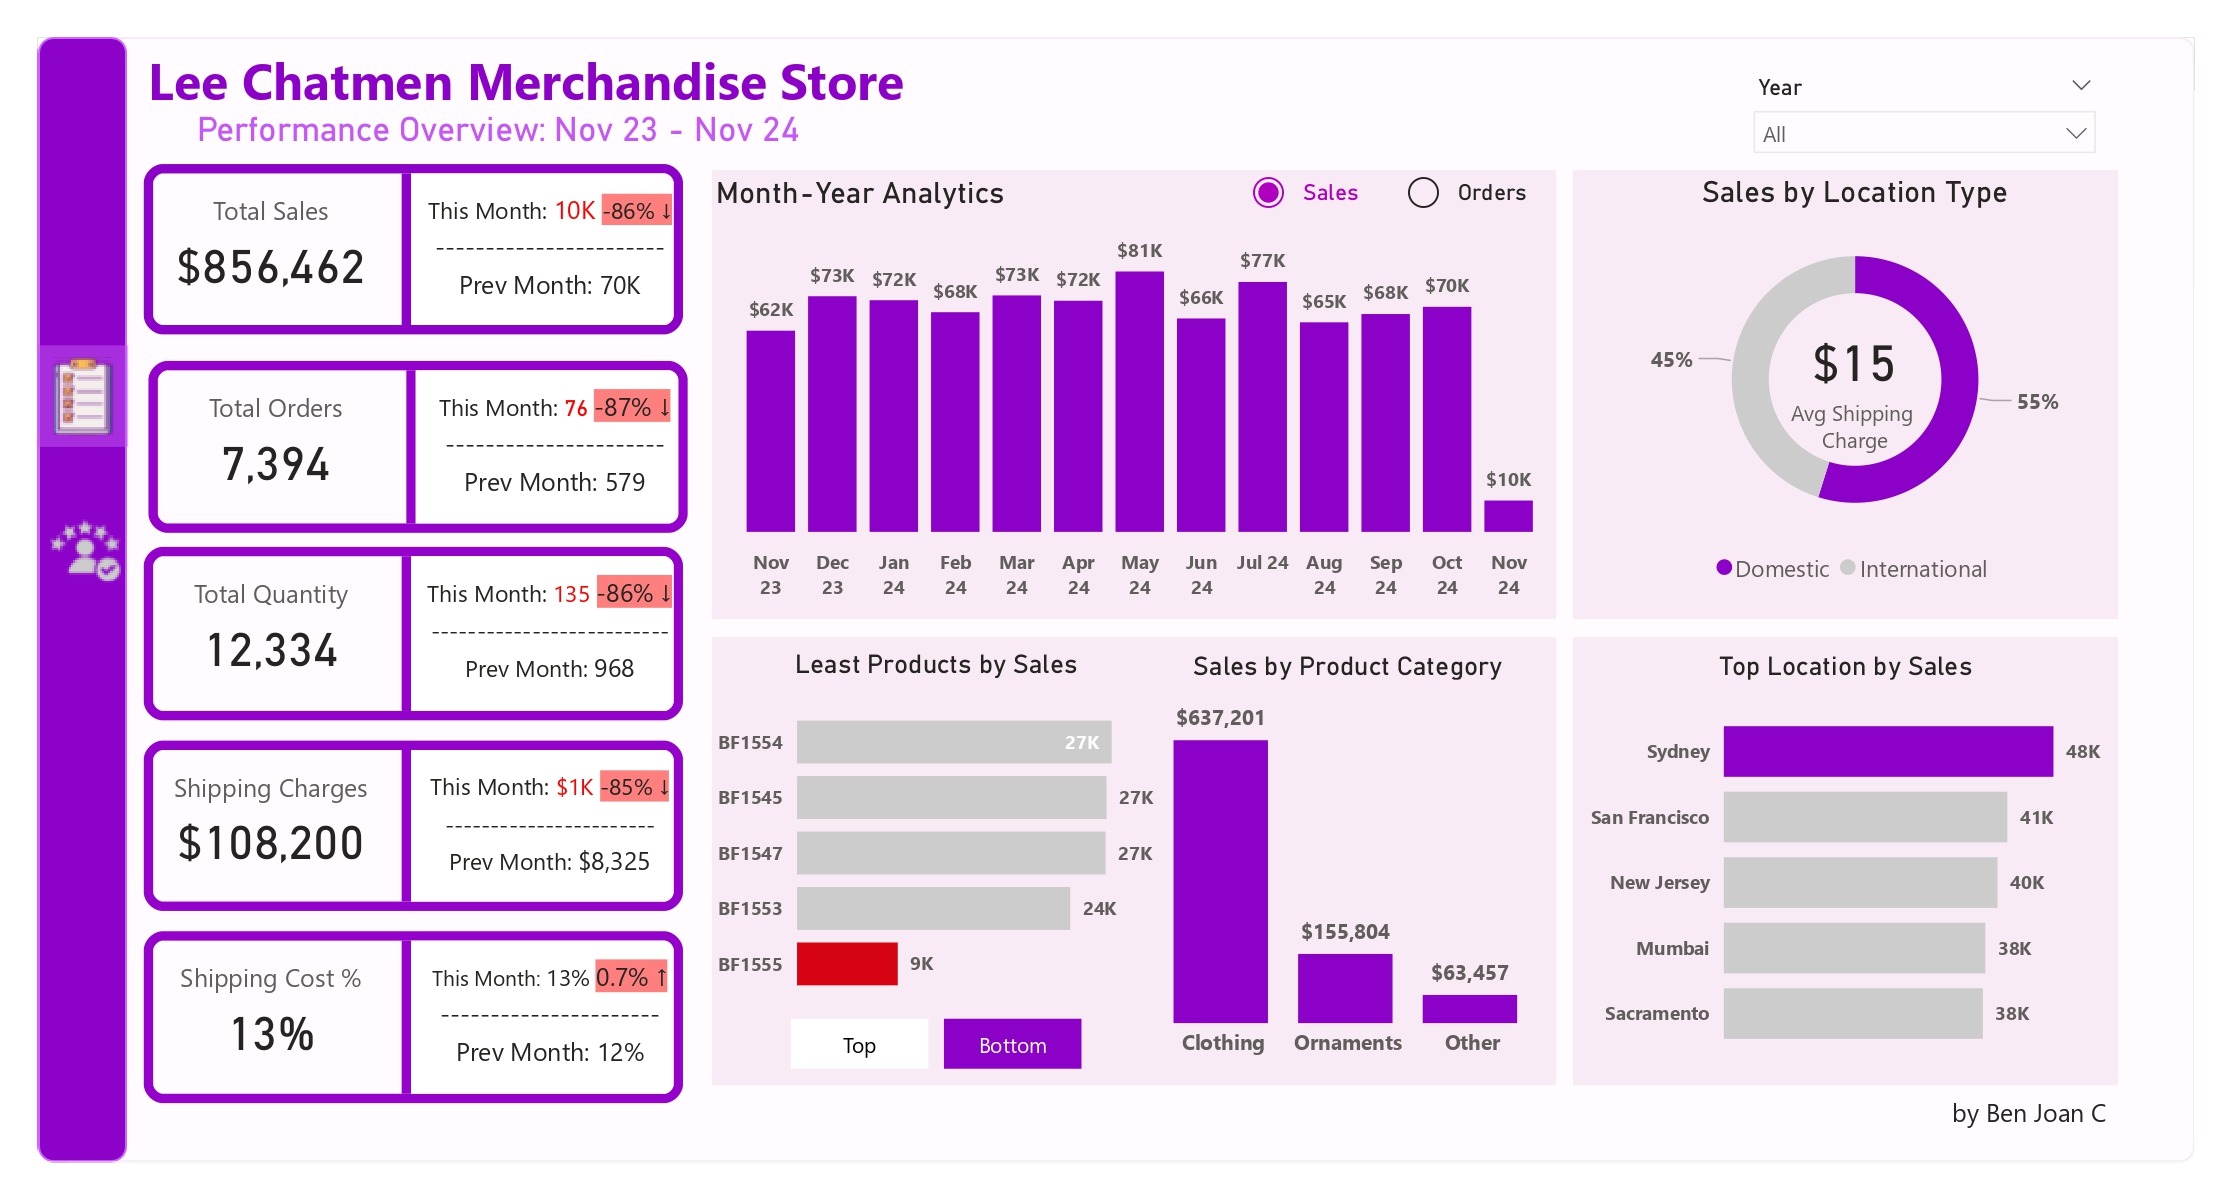

The page's visual inventory and layout, read from the dashboard file:
{"tool":"powerbi","page":{"name":"Overview","canvas":[1380,720],"ordinal":0},"visuals":[{"type":"cardVisual","fields":{"Data":["_Measures._total sales"]},"box":[62.5,75.9,355.1,119.5],"z":0},{"type":"donutChart","fields":{"Y":["_Measures._total sales"],"Category":["Fact_Data.Order_Type"]},"box":[987.6,87.6,339.8,271.5],"z":0},{"type":"clusteredColumnChart","title":"Month-Year Analytics","fields":{"Y":["_Measures._total sales"],"Category":["Calender.Month - Year"]},"box":[428.8,88.2,549.4,279.2],"z":1000},{"type":"cardVisual","fields":{"Data":["_Measures._No of orders"]},"box":[65.9,202.1,355.1,119.5],"z":2000},{"type":"cardVisual","fields":{"Data":["_Measures._shipping charges"]},"box":[62.5,444.7,355.1,119.5],"z":3000},{"type":"cardVisual","fields":{"Data":["_Measures._qty ordered"]},"box":[62.5,321,355.1,120.6],"z":4000},{"type":"clusteredColumnChart","fields":{"Y":["_Measures._total sales"],"Category":["Data.Product Category"]},"box":[690.1,391.9,297,271.3],"z":5000},{"type":"advancedSlicerVisual","fields":{"Values":["Parameter.Parameter"]},"box":[768.2,75.9,201,45.8],"z":6000},{"type":"cardVisual","fields":{"Data":["_Measures._shipping cost %"]},"box":[62.5,567.2,355.1,119.5],"z":7000},{"type":"actionButton","box":[3.3,295.9,54.7,63.6],"z":8000},{"type":"actionButton","box":[0,196.5,58.1,65.9],"z":9000},{"type":"card","fields":{"Values":["_Measures._avg shipping charge"]},"box":[1092.9,141.4,129.4,146.4],"z":10000},{"type":"textbox","box":[1220.5,672.2,117.2,35.7],"z":10000},{"type":"textbox","box":[66.4,0,535.3,58.9],"z":11000},{"type":"card","fields":{"Values":["_Measures._SalesOverview"]},"box":[58.9,41.4,471.4,35.1],"z":12000},{"type":"clusteredBarChart","title":"Top Location by Orders","fields":{"Category":["Fact_Data.Order Location"],"Y":["_Measures._top 5 Location"]},"box":[987.1,391.9,339.5,272.5],"z":13000},{"type":"slicer","fields":{"Values":["Calender.Year"]},"box":[1087.6,19,239,56.9],"z":15000},{"type":"clusteredBarChart","fields":{"Y":["_Measures._top 5 products"],"Category":["Data.Product ID"]},"box":[445.5,390.8,274.7,224.4],"z":16000},{"type":"bookmarkNavigator","box":[482.4,627.5,185.4,32.4],"z":18000}]}

Visuals, with their boxes on the page's 1380x720 design canvas (x1, y1, x2, y2). These are canvas units, not pixel positions in the 2232x1200 screenshot, which may show the page scaled, cropped or inside an application window:
cardVisual - _Measures._total sales: bbox=[62, 76, 418, 195]
donutChart - _Measures._total sales x Fact_Data.Order_Type: bbox=[988, 88, 1327, 359]
"Month-Year Analytics" clusteredColumnChart: bbox=[429, 88, 978, 367]
cardVisual - _Measures._No of orders: bbox=[66, 202, 421, 322]
cardVisual - _Measures._shipping charges: bbox=[62, 445, 418, 564]
cardVisual - _Measures._qty ordered: bbox=[62, 321, 418, 442]
clusteredColumnChart - _Measures._total sales x Data.Product Category: bbox=[690, 392, 987, 663]
advancedSlicerVisual - Parameter.Parameter: bbox=[768, 76, 969, 122]
cardVisual - _Measures._shipping cost %: bbox=[62, 567, 418, 687]
actionButton: bbox=[3, 296, 58, 360]
actionButton: bbox=[0, 196, 58, 262]
card - _Measures._avg shipping charge: bbox=[1093, 141, 1222, 288]
textbox: bbox=[1220, 672, 1338, 708]
textbox: bbox=[66, 0, 602, 59]
card - _Measures._SalesOverview: bbox=[59, 41, 530, 76]
"Top Location by Orders" clusteredBarChart: bbox=[987, 392, 1327, 664]
slicer - Calender.Year: bbox=[1088, 19, 1327, 76]
clusteredBarChart - _Measures._top 5 products x Data.Product ID: bbox=[446, 391, 720, 615]
bookmarkNavigator: bbox=[482, 628, 668, 660]
